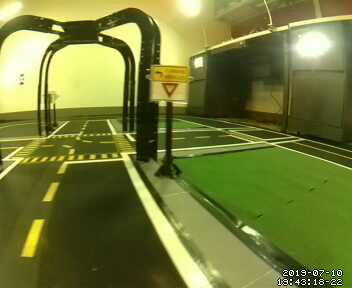Turn Yield: (150, 64, 188, 104)
